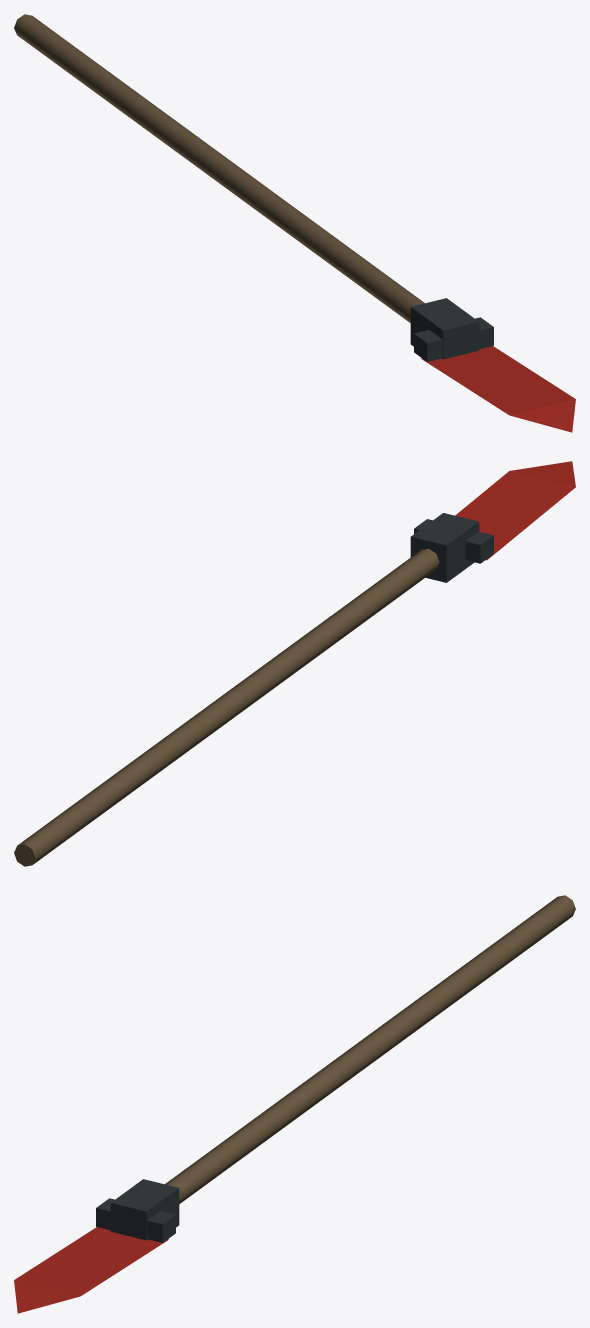
3 views of the same model, one above another, from view 1: azimuth 30°, elevation 25°; view 2: azimuth 150°, elevation 25°; view 3: azimuth 330°, elevation 25° (orthographic).
Parts seen in each view (by area): view 1: weapon-spear-painted; view 2: weapon-spear-painted; view 3: weapon-spear-painted.
Boxes of the visible parts, x1,y1,x2,y2 form: weapon-spear-painted: (14, 14, 575, 432); weapon-spear-painted: (14, 461, 575, 866); weapon-spear-painted: (14, 895, 575, 1313).
Bounding box in the file's own units: 0.7767 × 0.4182 × 11.05.
